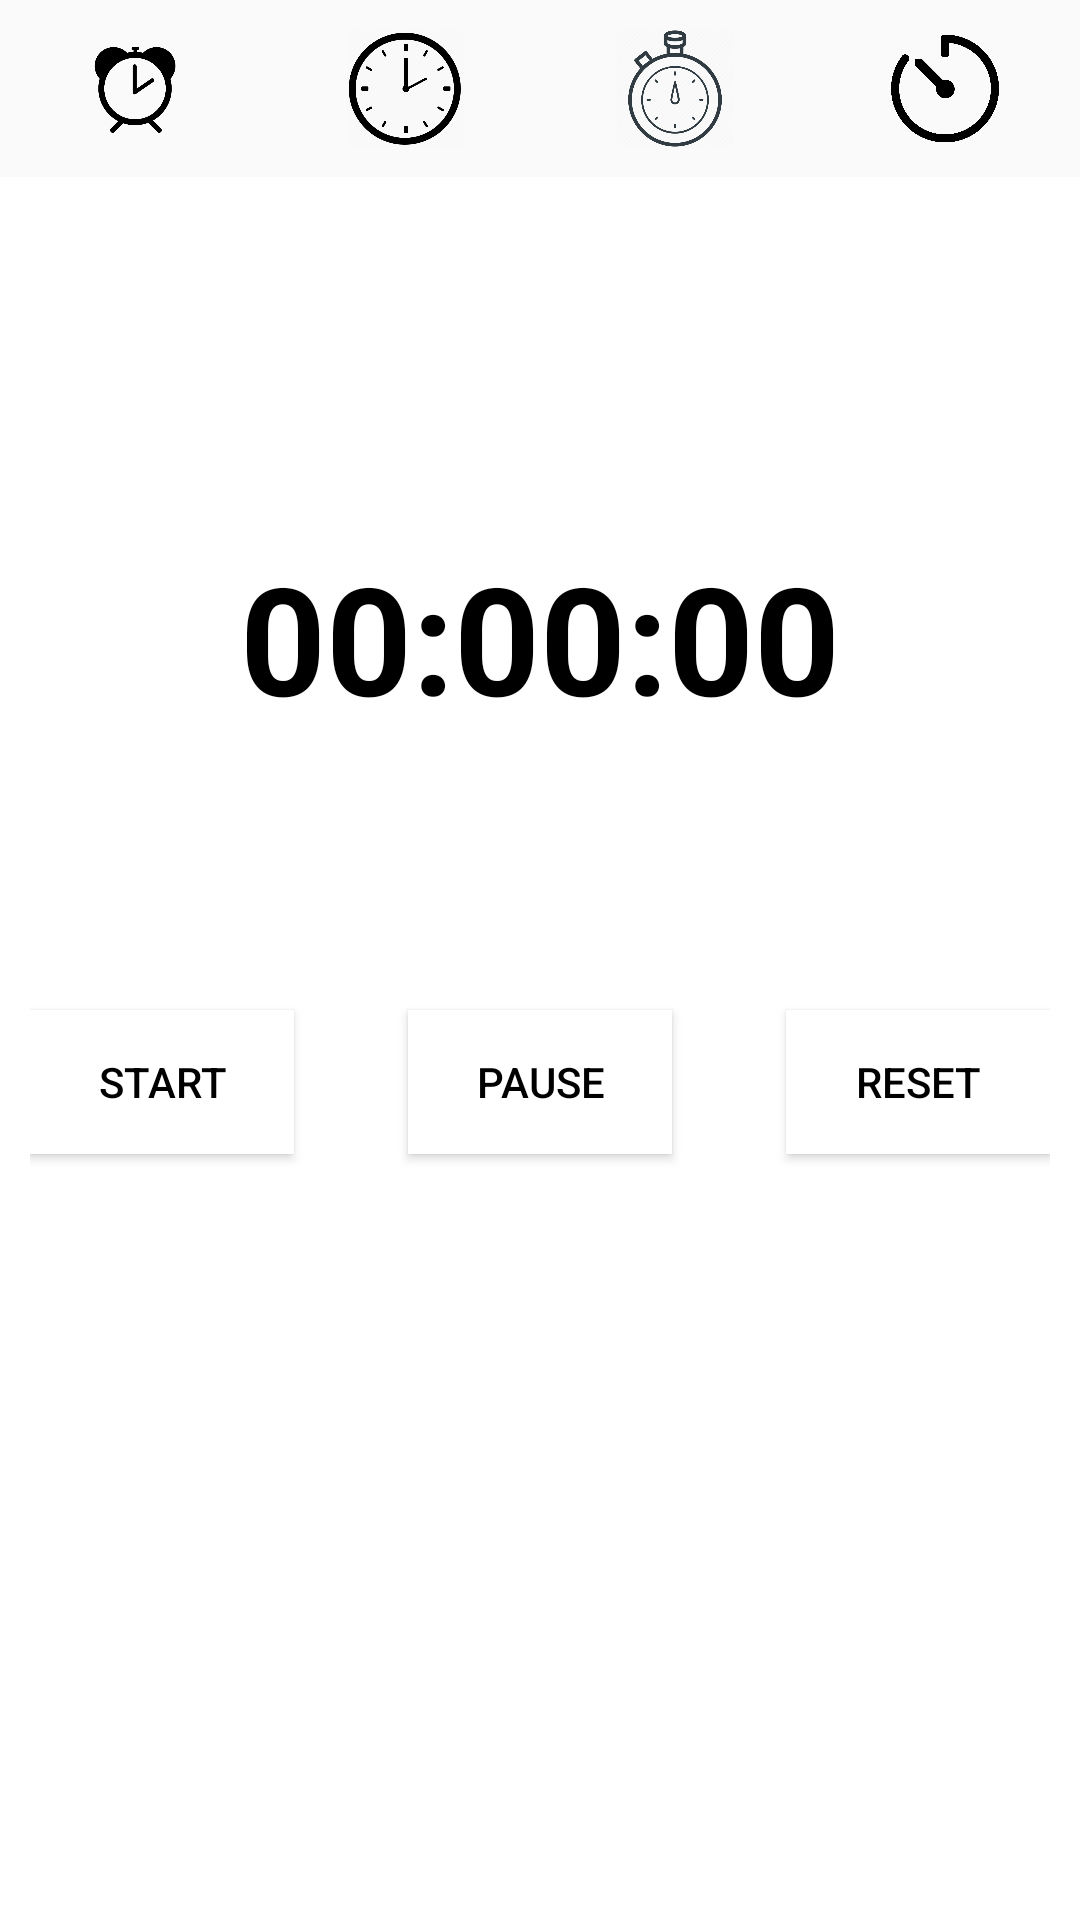

Named icons in this screenshot (1080px x 1920px) and their bounding boxes, (x1, y1, x2, y2):
alarm nav: (95, 47, 176, 133)
clock: (349, 33, 461, 145)
stopwatch: (628, 30, 722, 147)
timer: (891, 35, 999, 142)
